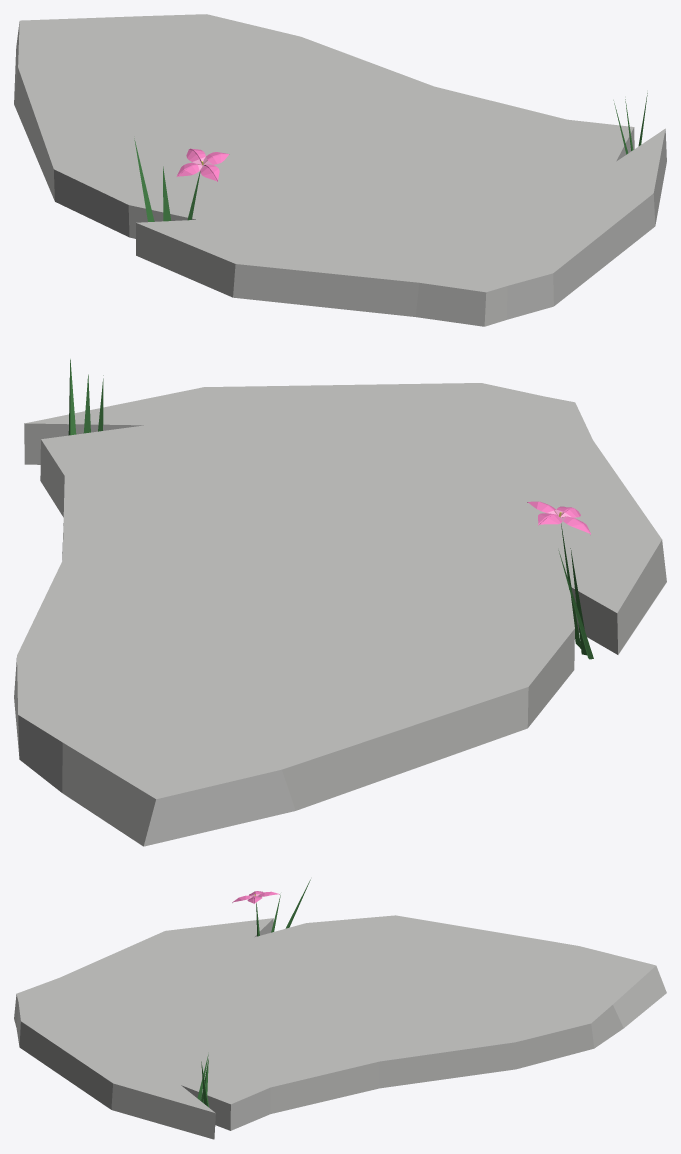
File: stone-type-003.obj
3 renders of one model, top to bottom at view 1: azimuth 30°, elevation 25°; view 2: azimuth 150°, elevation 25°; view 3: azimuth 270°, elevation 25°, orthographic. The views are drawn at different scales.
Parts seen in each view (by area): view 1: stone-type-003; view 2: stone-type-003; view 3: stone-type-003.
Part boxes in pixels (x1,y1,x2,y2): stone-type-003: [14, 14, 666, 326]; stone-type-003: [14, 359, 666, 846]; stone-type-003: [14, 879, 666, 1139].
Size of the model in its own units: 0.3361 by 0.0683 by 0.4685.
